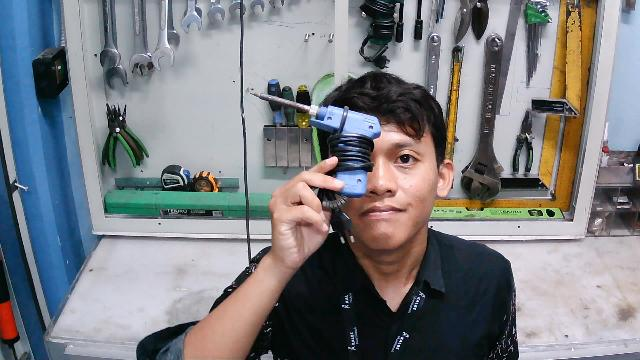solder_electrical: (248, 87, 387, 247)
